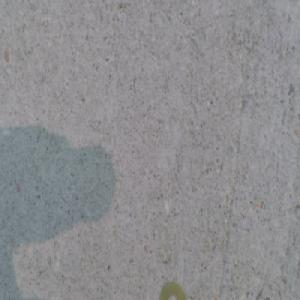Washer: (160, 282, 187, 299)
